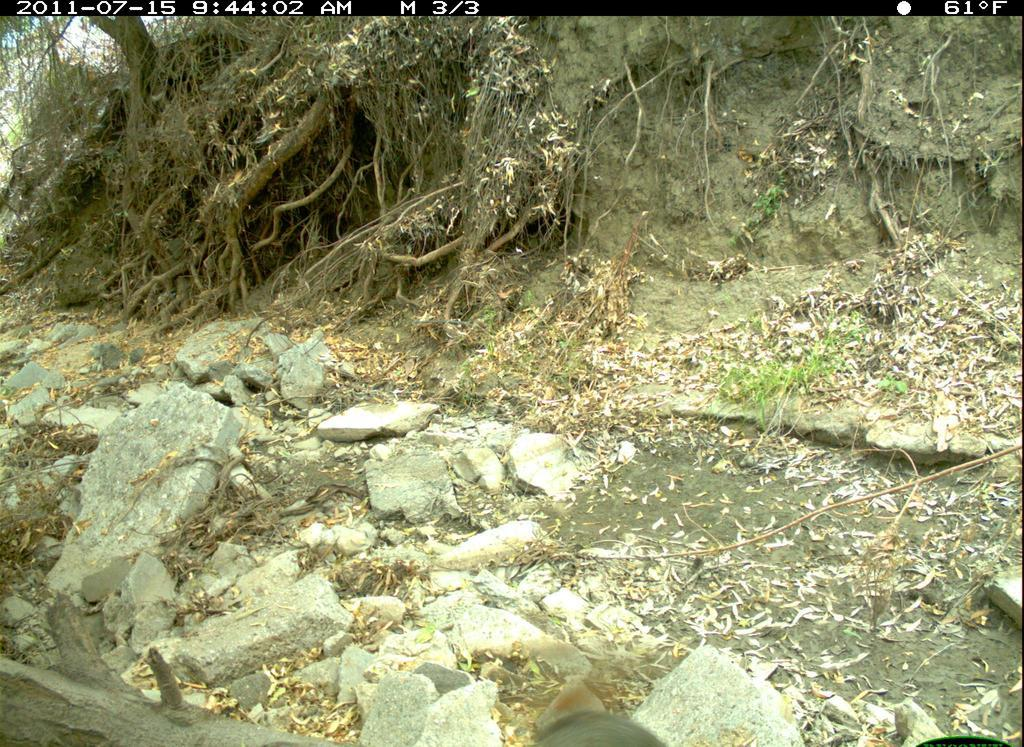squirrel: (520, 653, 674, 742)
